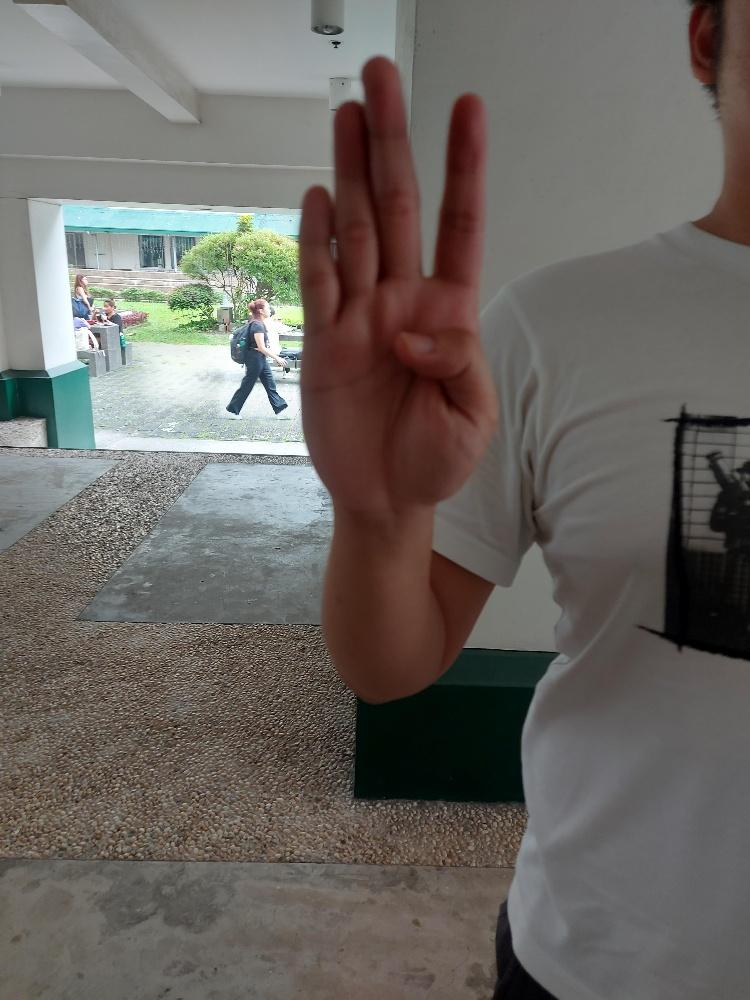b: (295, 49, 504, 516)
